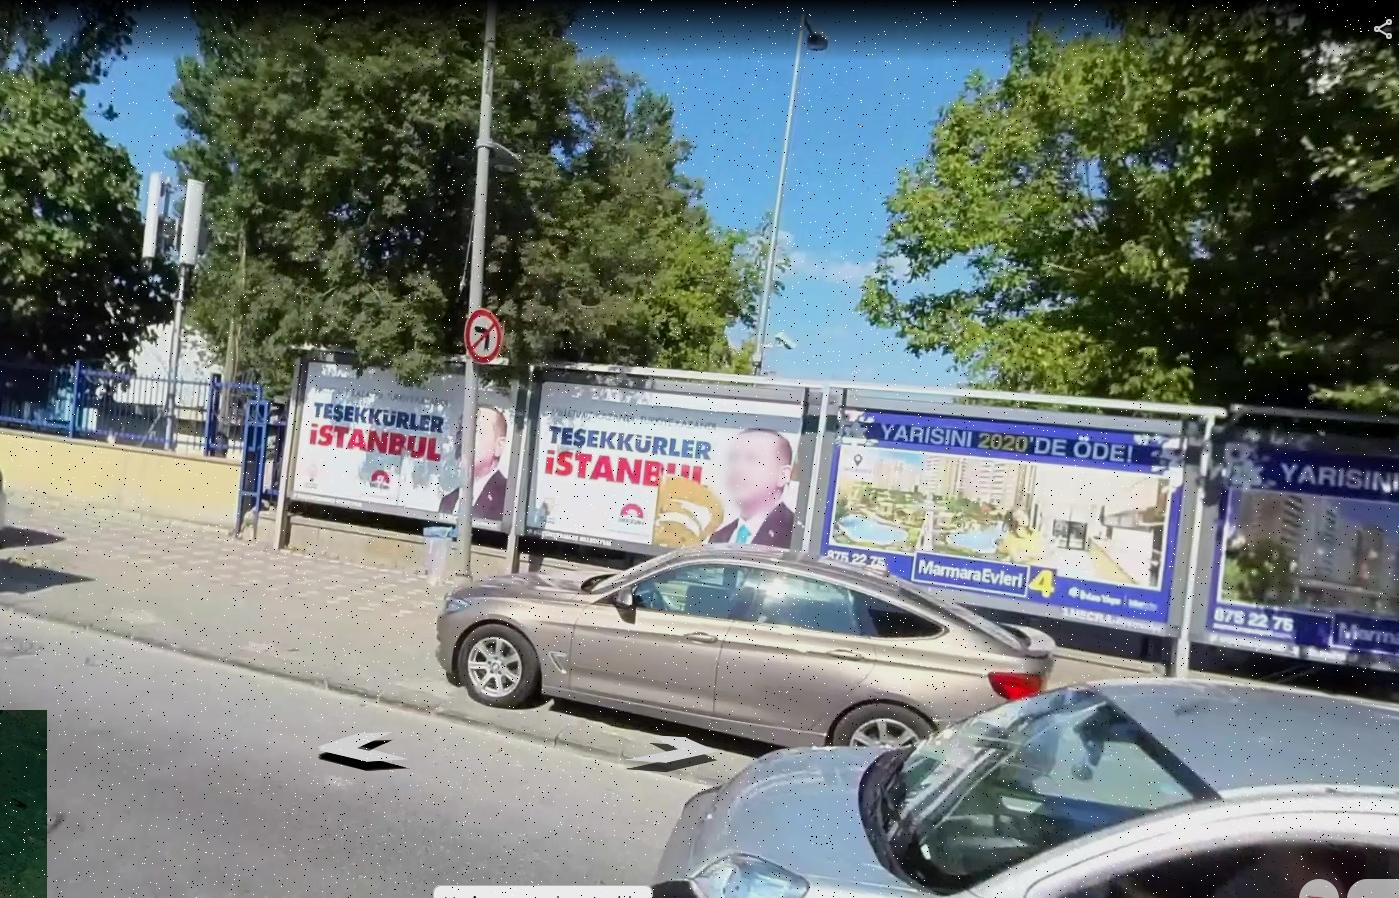leftturnsareforbidden: (468, 314, 500, 360)
